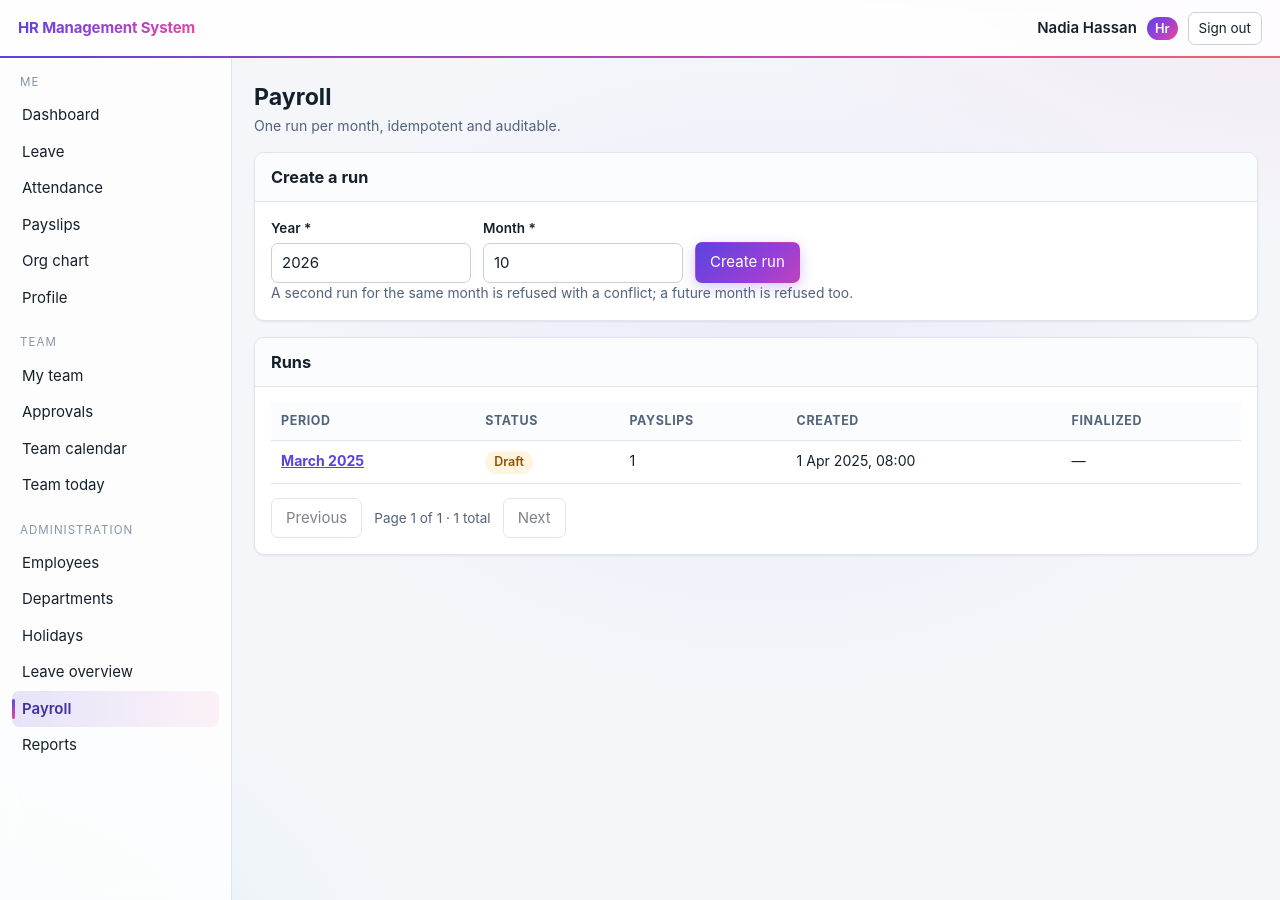
it: payroll runs › shows the 409 message when a run for that month already exists
Replace the text in the number field labelled "Year *" with "2025" at (371, 263), box 271,243 -> 471,283
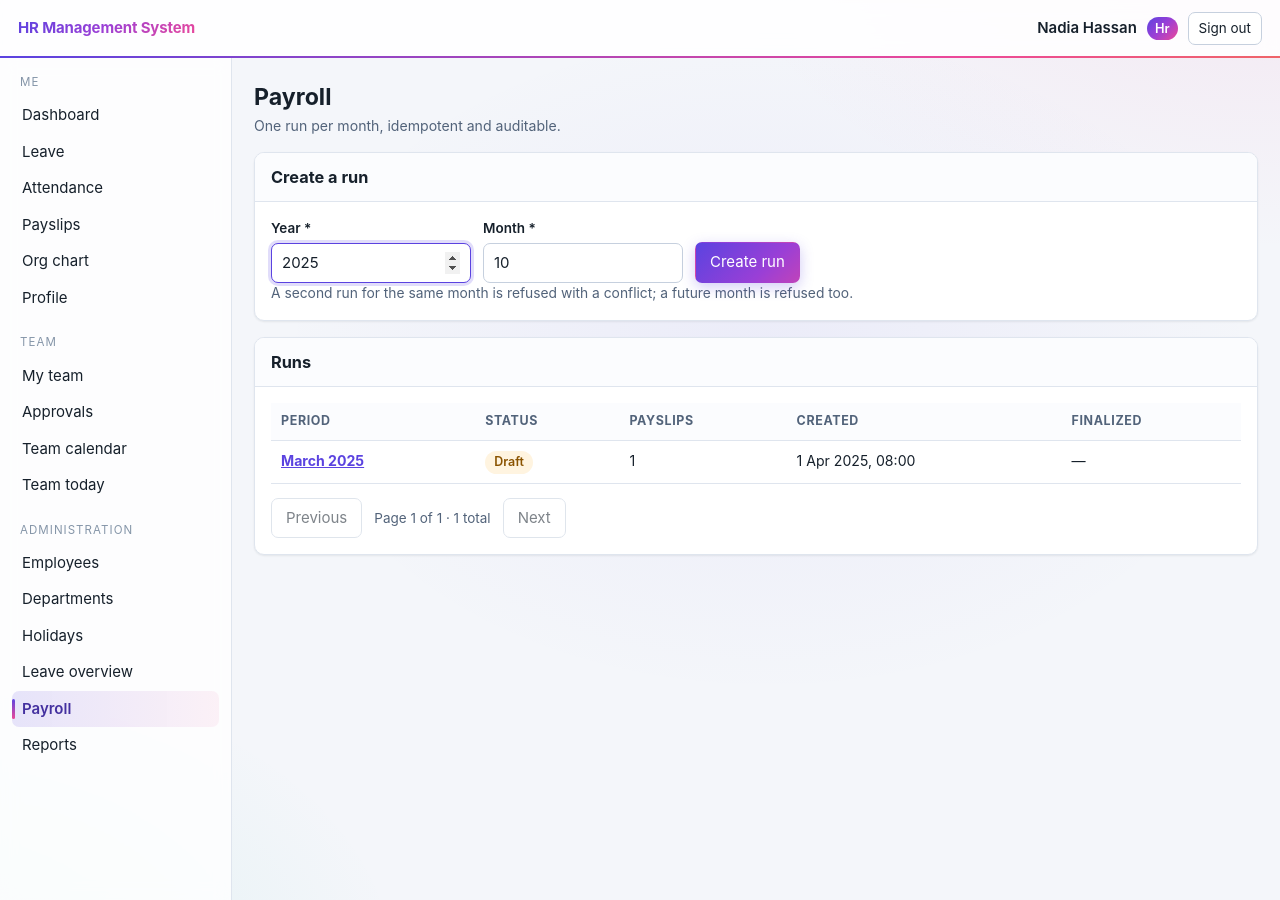
Replace the text in the number field labelled "Month *" with "3" at (583, 263), box 483,243 -> 683,283
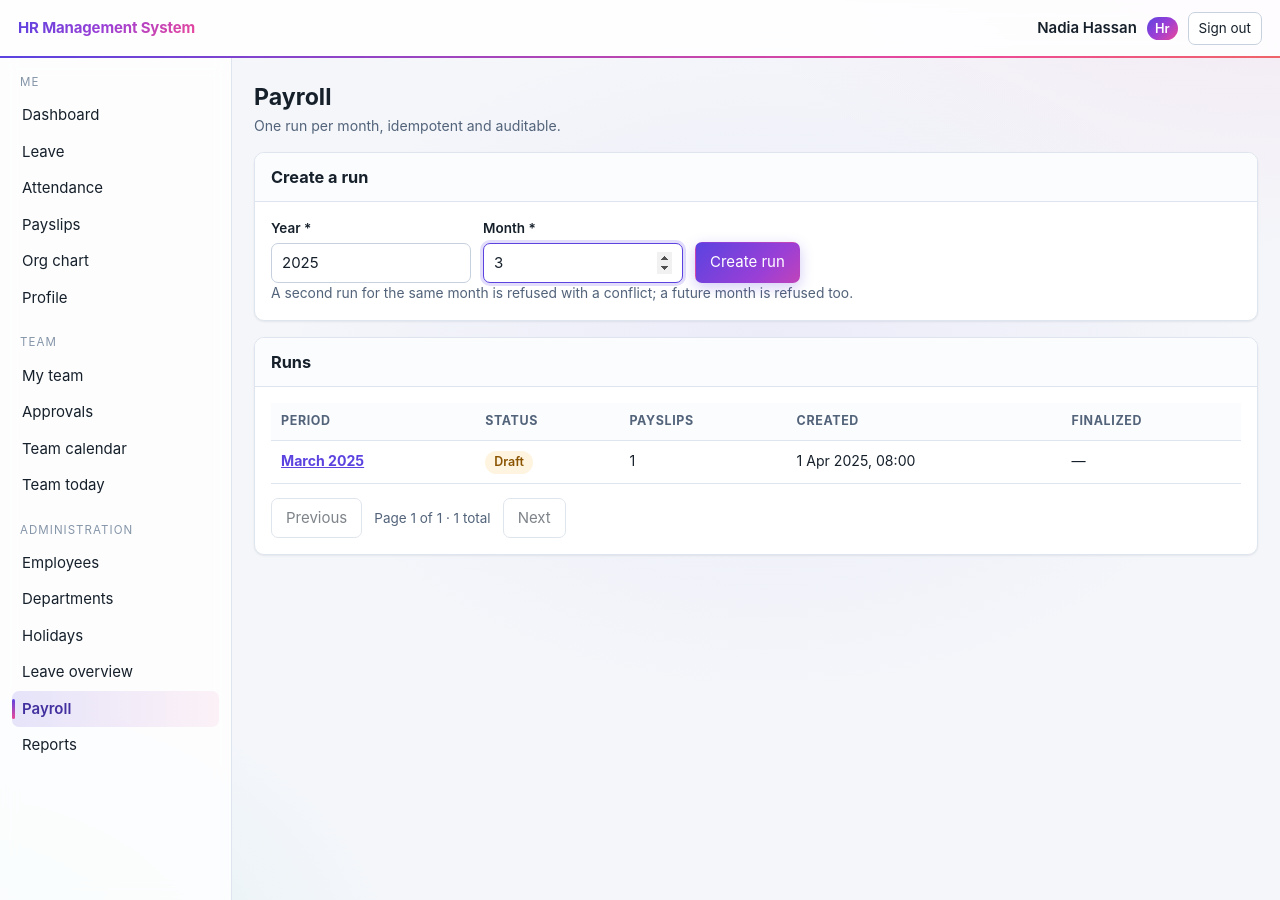
Click the button "Create run" at (747, 263), box 695,242 -> 800,283
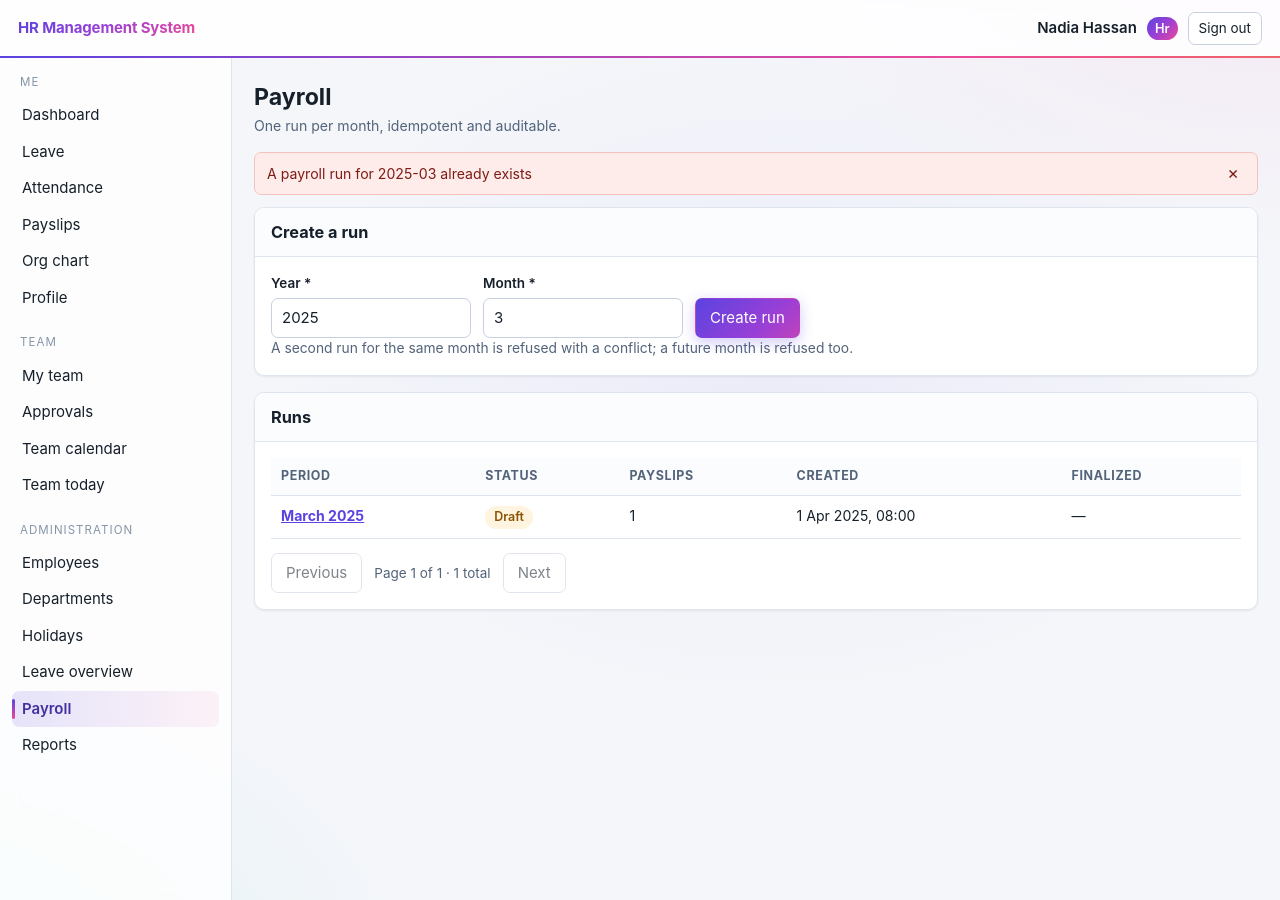
Expected: the heading "Payroll" is shown, 254,83 -> 331,111
Expected: the message shows "A payroll run for 2025-03 already exists", 267,165 -> 532,182
